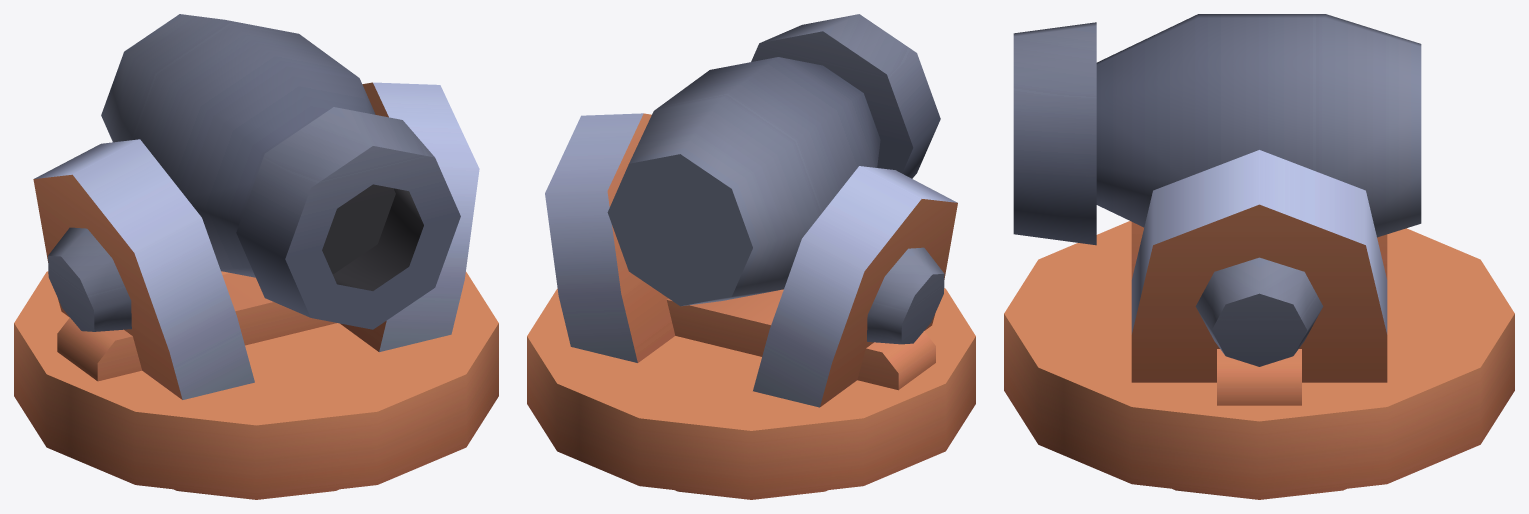
File: kenney-tower-defense-weapon-cannon.glb
The picture shows the model from 3 angles, left to right: view 1: azimuth 30°, elevation 25°; view 2: azimuth 150°, elevation 25°; view 3: azimuth 270°, elevation 25°; orthographic projection. The views are drawn at different scales.
Parts seen in each view (by area): view 1: weapon-cannon, barrel; view 2: weapon-cannon, barrel; view 3: weapon-cannon, barrel.
Boxes of the visible parts, x1,y1,x2,y2 form: weapon-cannon: (14, 82, 498, 499); barrel: (101, 14, 460, 329); weapon-cannon: (527, 113, 975, 499); barrel: (607, 14, 940, 306); weapon-cannon: (1004, 150, 1514, 499); barrel: (1013, 14, 1421, 245).
Size of the model in its own units: 0.6 by 0.5328 by 0.6.
Materials: 1 (1 with a texture image).
